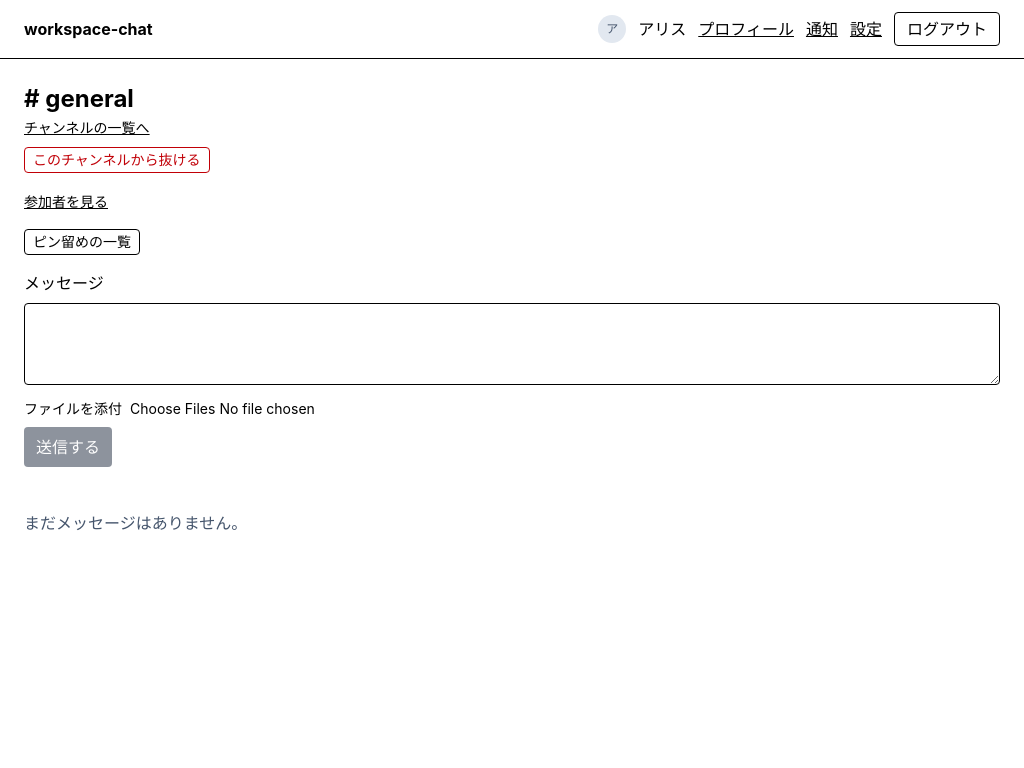
Test case: チャンネルの参加者（F-10・F-09） › 押すまで読まない。押すと参加者の表示名とユーザーID を出す
Click the button "参加者を見る". click: (66, 202)
box: x1=24 y1=192 x2=108 y2=212
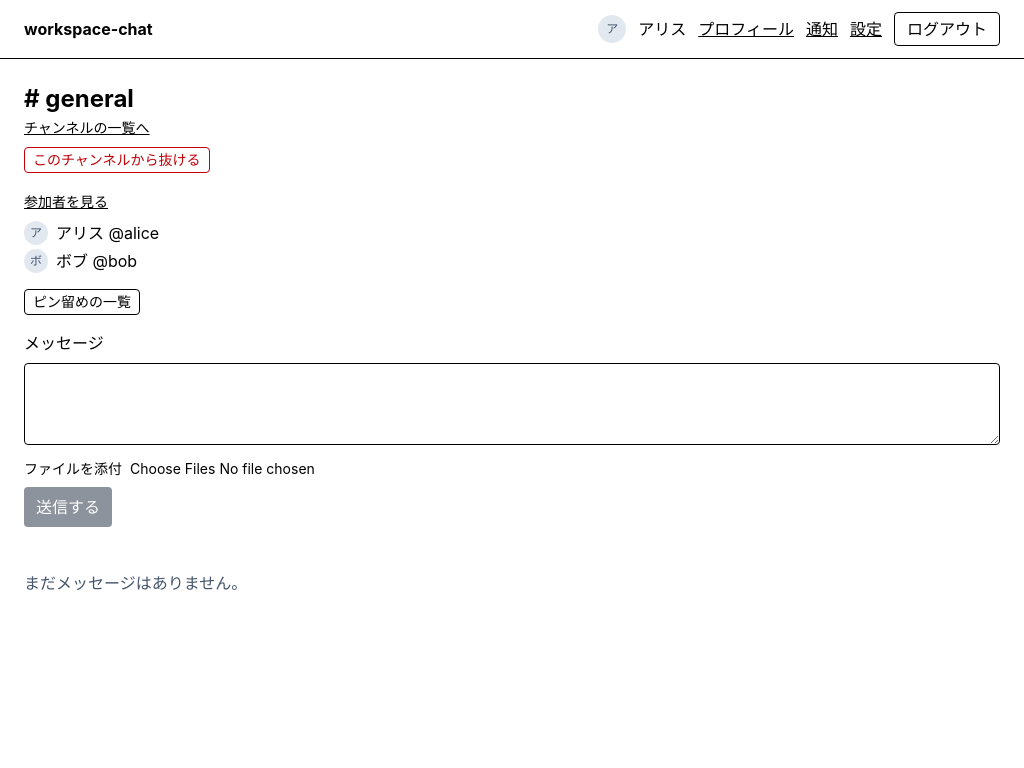
Expected: the number of list items is 2, x1=24 y1=221 x2=159 y2=245; x1=24 y1=249 x2=137 y2=273
Expected: the list item "ボ ボブ @bob" is shown, x1=24 y1=249 x2=137 y2=273
